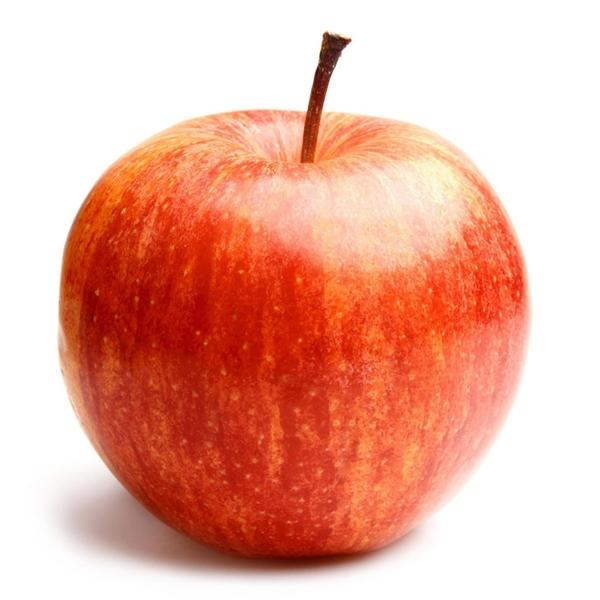apple: (55, 107, 536, 560)
